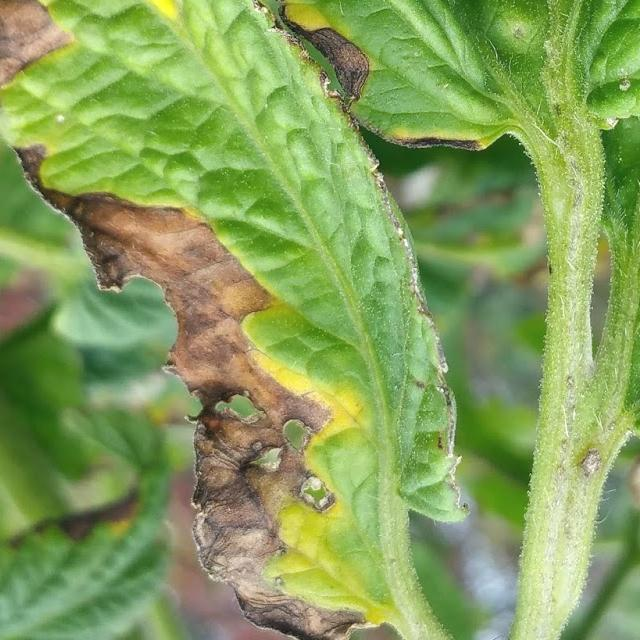Tomato leaf bacterial spot: (0, 0, 462, 640), (235, 0, 640, 192), (551, 0, 640, 465)
